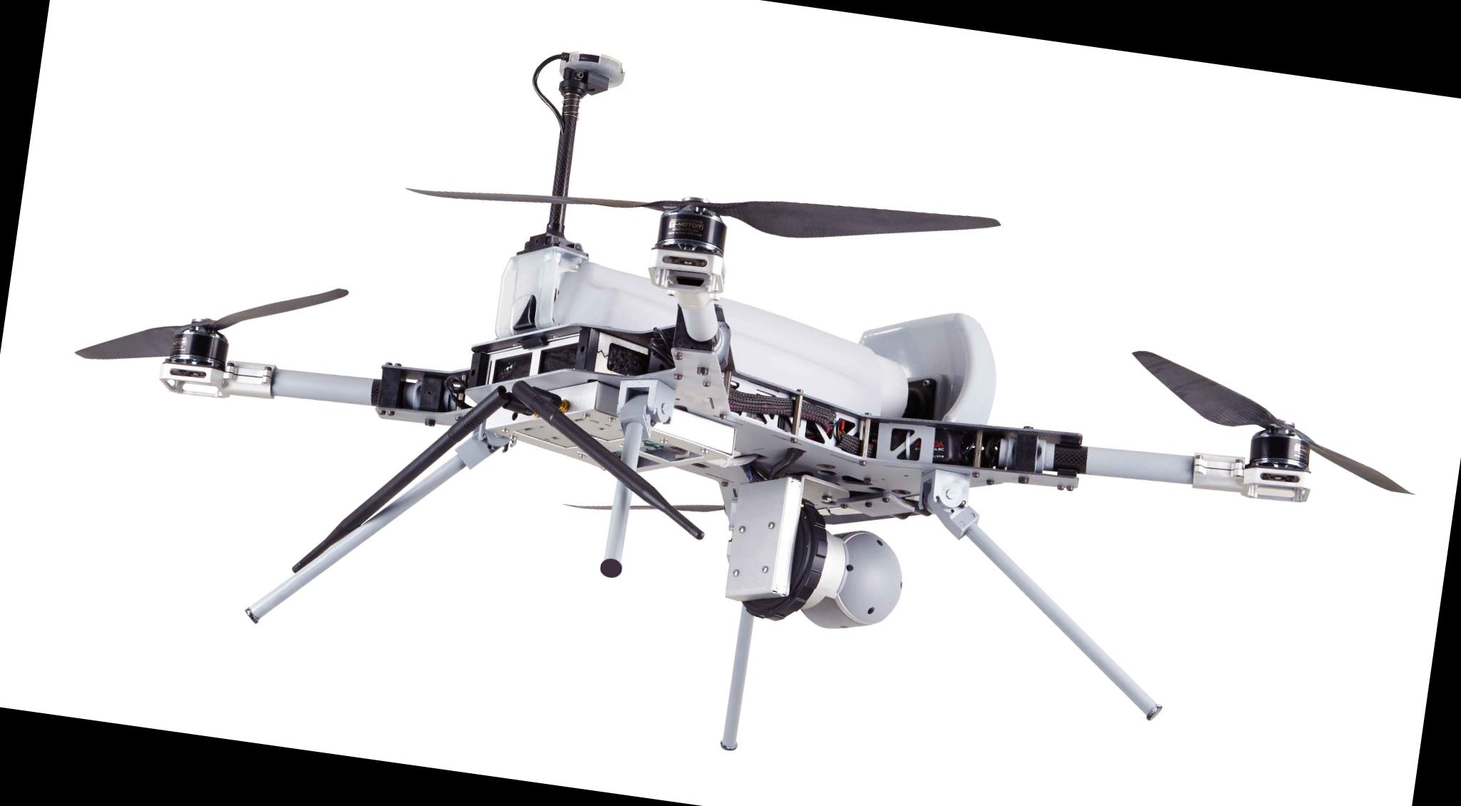drone: (84, 121, 1461, 708)
